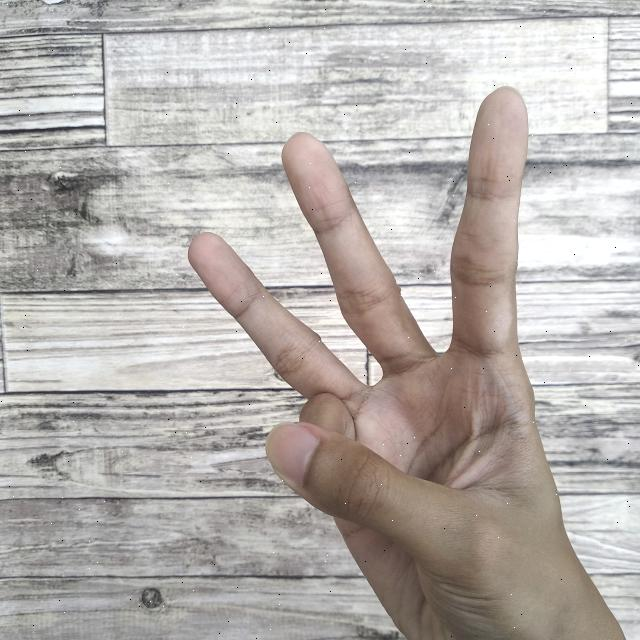W: (183, 77, 632, 640)
